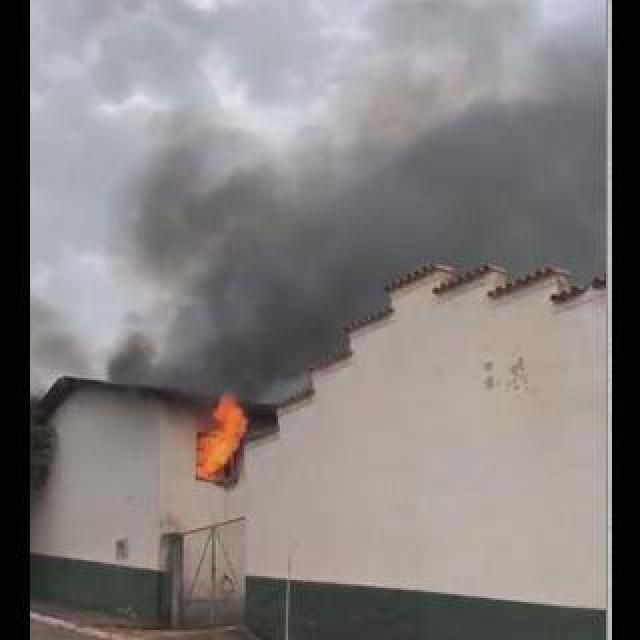Fire: (188, 380, 252, 480)
Smoke: (72, 90, 370, 390)
